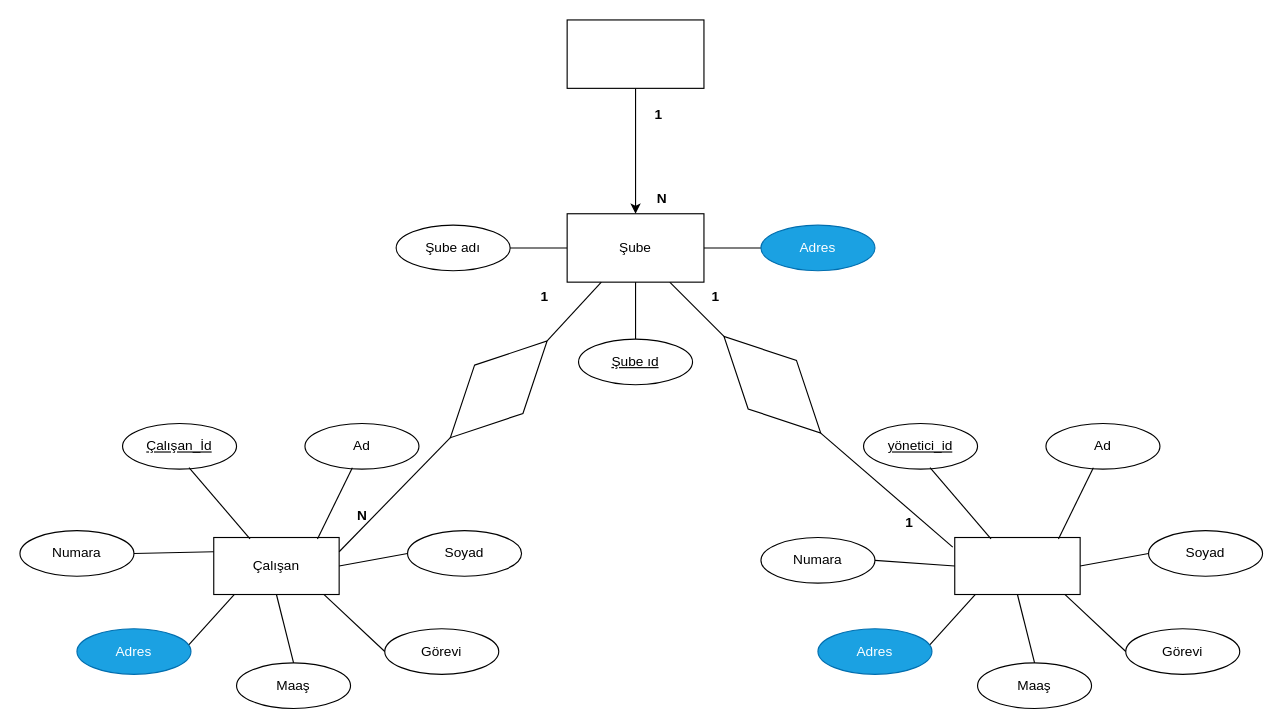
The diagram is 1283 pixels wide and 728 high, and some of its shapes have lost their labels. Each missing label, with the box of its shape:
Yönetici: (954, 536, 1080, 595)
Yönetir: (698, 311, 845, 458)
Çalışır: (425, 315, 572, 462)
Şirket: (566, 19, 704, 88)
